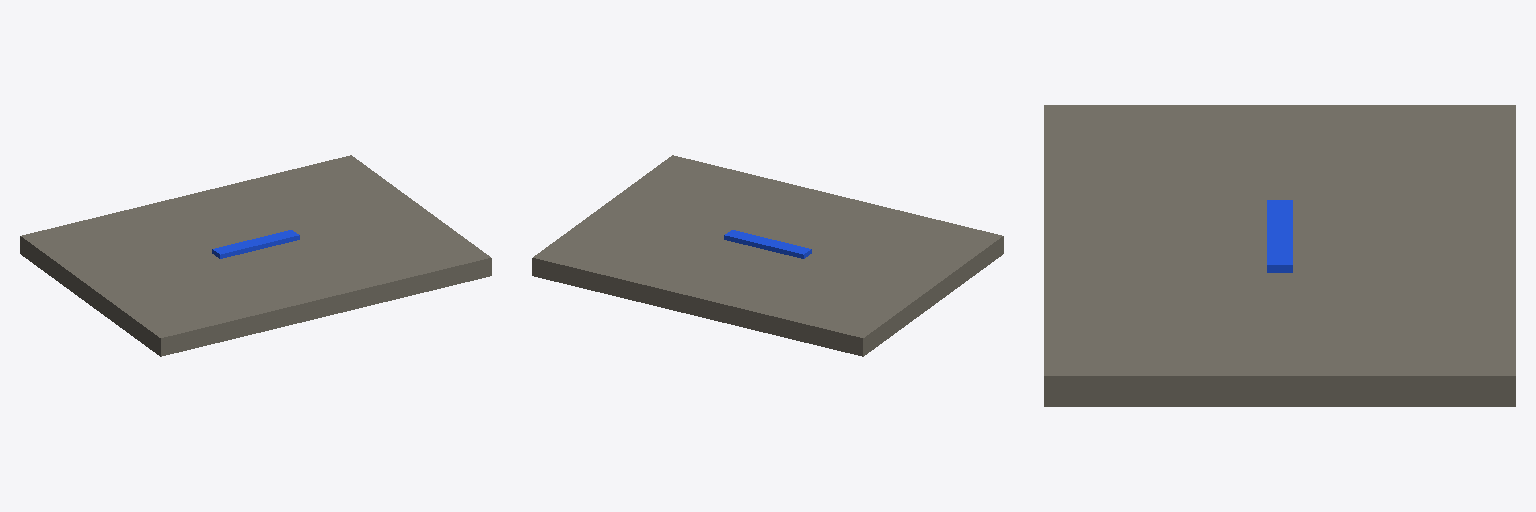
The robot description file, URDF, robot "parttoolgen_tabletop_proxy_v0":
<?xml version="1.0"?>
<robot name="parttoolgen_tabletop_proxy_v0">
  <link name="tabletop_proxy">
    <visual>
      <material name="wood">
        <color rgba="0.52 0.50 0.46 1.0"/>
      </material>
      <origin xyz="0 0 0"/>
      <geometry>
        <box size="0.75 0.55 0.04"/>
      </geometry>
    </visual>
    <collision>
      <origin xyz="0 0 0"/>
      <geometry>
        <box size="0.75 0.55 0.04"/>
      </geometry>
    </collision>

    <visual>
      <material name="target_patch">
        <color rgba="0.18 0.40 0.95 0.82"/>
      </material>
      <origin xyz="0.0 0.0 0.025"/>
      <geometry>
        <box size="0.18 0.03 0.01"/>
      </geometry>
    </visual>

    <inertial>
      <mass value="500"/>
      <friction value="1.0"/>
      <inertia ixx="1000.0" ixy="0.0" ixz="0.0" iyy="1000.0" iyz="0.0" izz="1000.0"/>
    </inertial>
  </link>
</robot>

--- Facts derived from the render (not from the file) ---
Views: 3 orthographic renders of the robot side by side, from view 1: azimuth 30°, elevation 25°; view 2: azimuth 150°, elevation 25°; view 3: azimuth 270°, elevation 25°.
Model parttoolgen_tabletop_proxy_v0 with 1 links and 0 joints (none), rooted at tabletop_proxy, posed all joints at 0.
Links seen in each view (by area): view 1: tabletop_proxy; view 2: tabletop_proxy; view 3: tabletop_proxy.
Link boxes in pixels (box(x1,y1,x2,y2)): tabletop_proxy: box(20, 155, 491, 356); tabletop_proxy: box(532, 155, 1003, 356); tabletop_proxy: box(1044, 105, 1515, 406).
Size in the robot's own frame: 0.75 by 0.55 by 0.05 metres.
Geometry: primitives only (box / cylinder / sphere), no mesh files.
